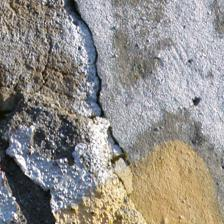Crack: (65, 5, 135, 170), (3, 142, 59, 223)
